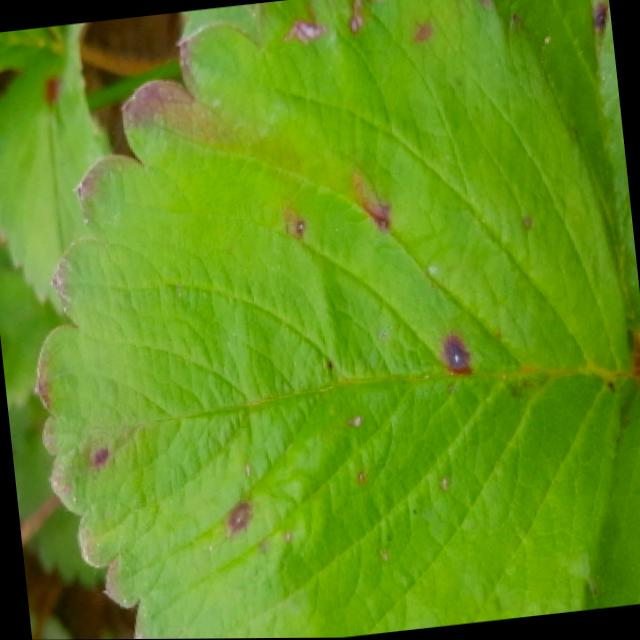Leaf Spot: (34, 0, 635, 639), (495, 0, 640, 369), (0, 23, 111, 311), (583, 373, 640, 611)
